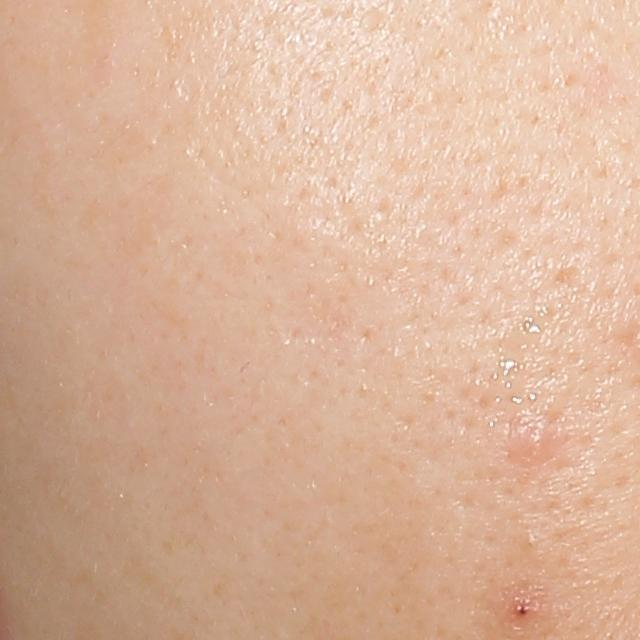comedo: (515, 526, 549, 559)
papule: (514, 421, 560, 463)
